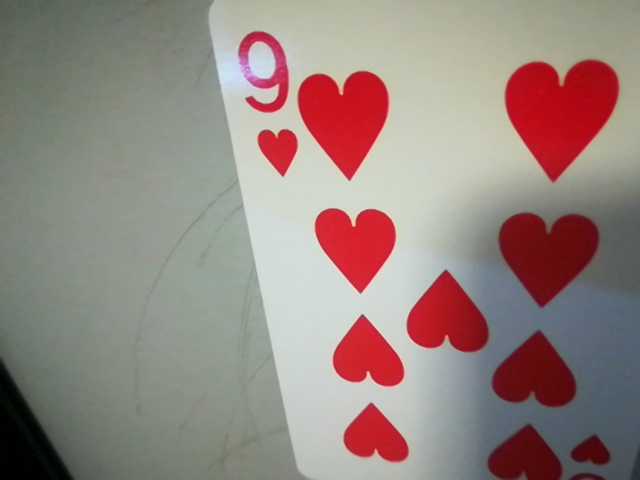hx 9: (225, 17, 303, 188)
